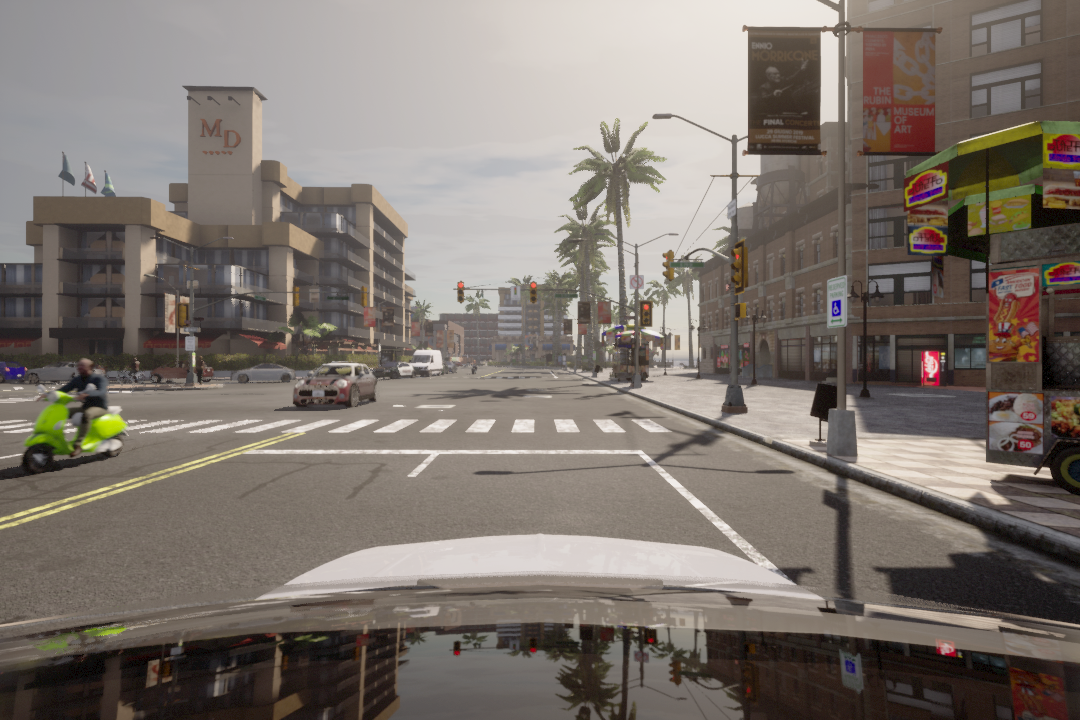TrafficLight: (729, 239, 749, 294), (660, 249, 676, 282), (640, 298, 655, 328), (527, 280, 538, 305), (455, 281, 466, 304)
TrafficSign: (631, 274, 644, 291)
walkside: (4, 415, 697, 441)
